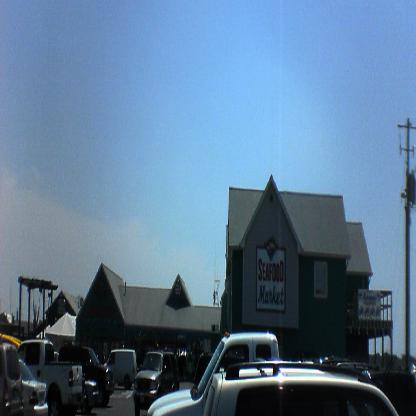Car: (204, 358, 397, 415), (61, 335, 113, 405), (131, 342, 180, 415), (19, 355, 49, 415), (0, 343, 24, 415), (82, 377, 100, 415)
